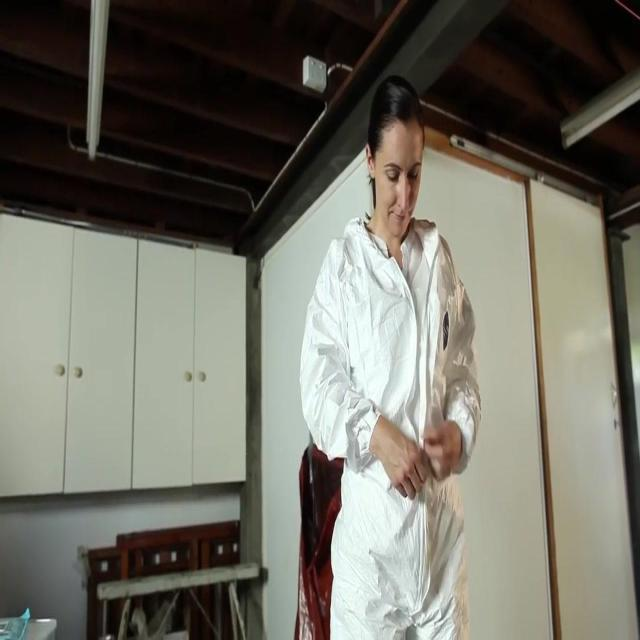Coverall: (307, 209, 485, 640)
